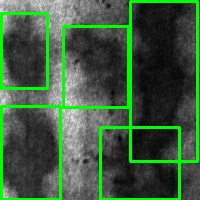patches: (130, 1, 197, 161), (100, 127, 179, 199), (1, 106, 60, 199), (63, 26, 128, 107), (1, 13, 47, 88)
